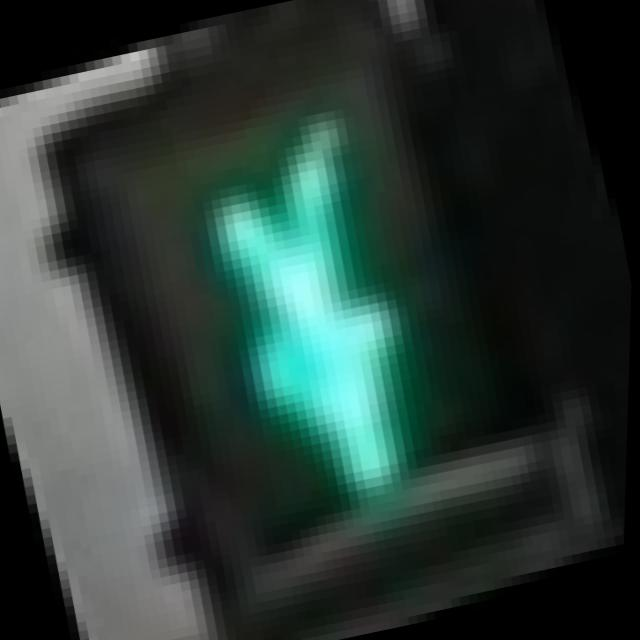green_light: (52, 65, 553, 616)
